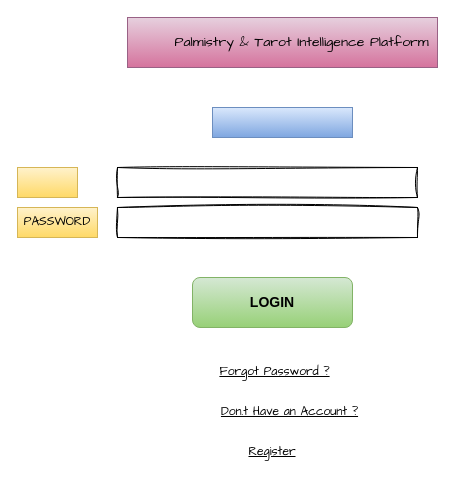
Some shapes in this 455 by 485 pixel diagram are drawn without their labels. The centre of each missing label's shape, as x and y in pixels:
"EMAIL" belongs at pixel 47 182.
"LOGIN PAGE" belongs at pixel 282 122.
